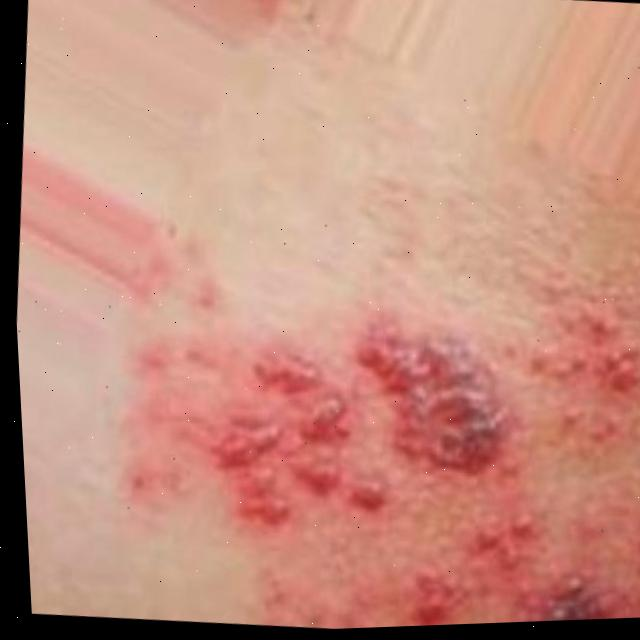Shingles: (60, 171, 640, 638)
